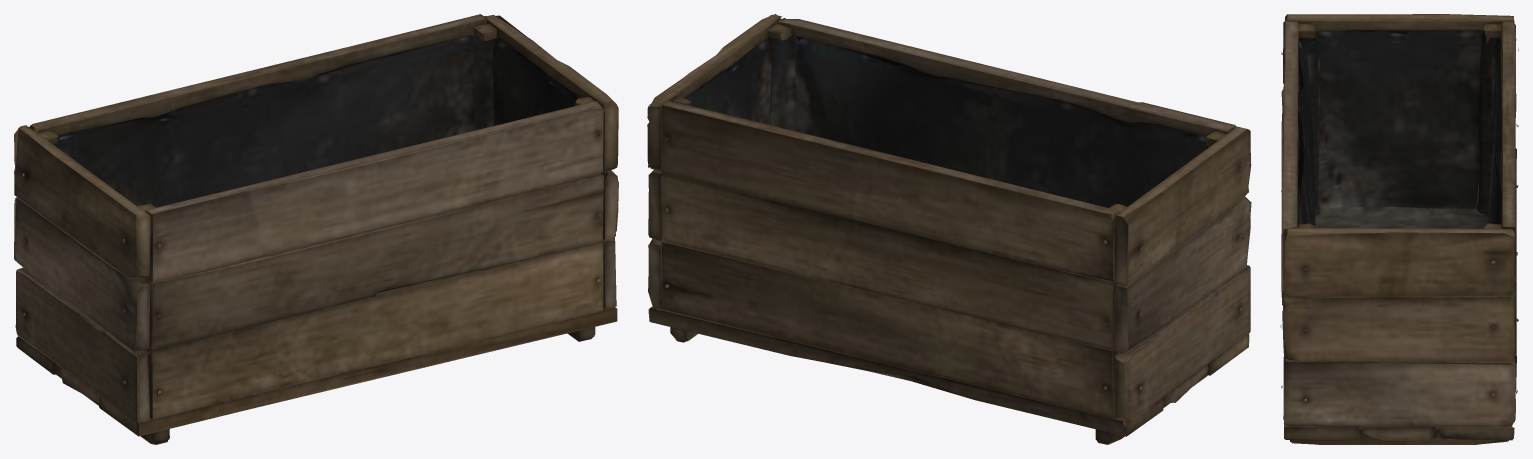
File: ph_planter_box_01.glb
3 views of the same model, side by side, from view 1: azimuth 30°, elevation 25°; view 2: azimuth 150°, elevation 25°; view 3: azimuth 270°, elevation 25° (orthographic). The views are drawn at different scales.
Visible parts, largest first — view 1: planter_box_01; view 2: planter_box_01; view 3: planter_box_01.
Boxes of the visible parts, box(x1,y1,x2,y2) form: planter_box_01: box(14, 14, 618, 444); planter_box_01: box(647, 14, 1251, 444); planter_box_01: box(1280, 14, 1518, 444).
Bounding box in the file's own units: 0.9169 × 0.4262 × 0.4163.
1 material, 1 textured.
